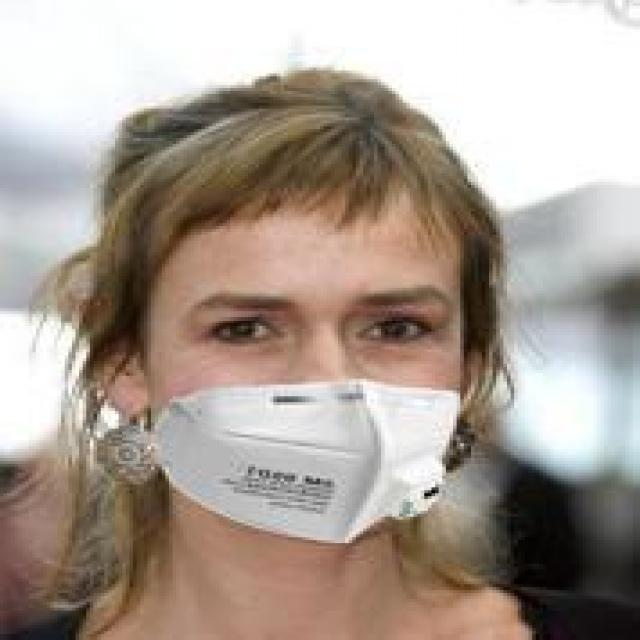mask: (86, 27, 543, 520)
